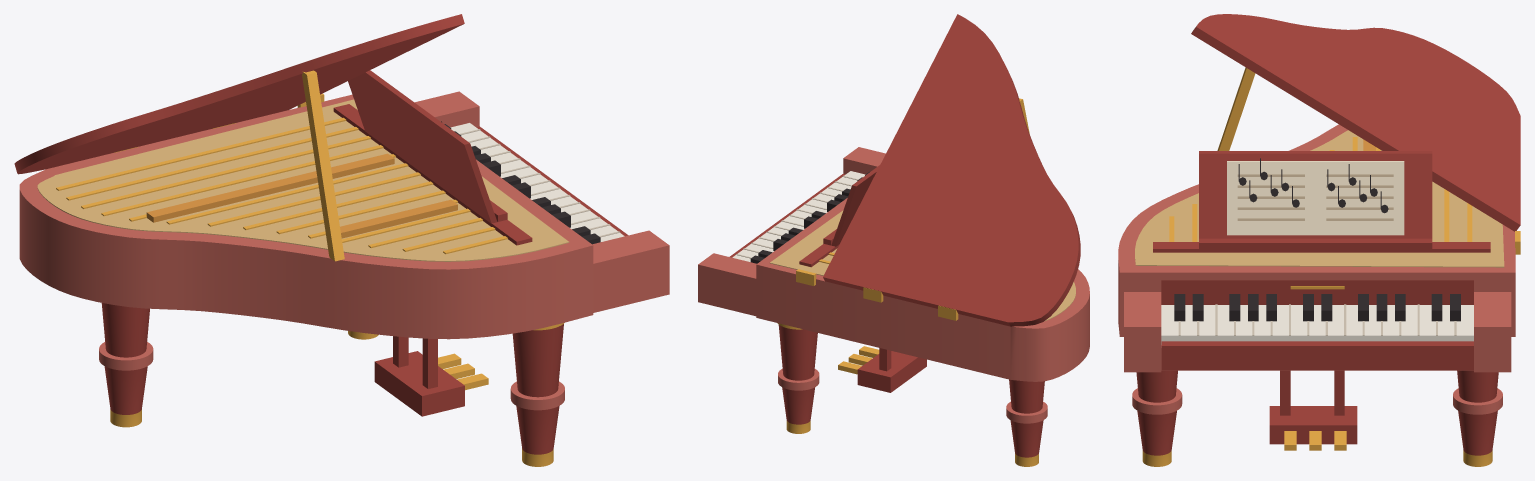
The model's file is piano.glb.
3 views of the same model, side by side, from view 1: azimuth 30°, elevation 25°; view 2: azimuth 150°, elevation 25°; view 3: azimuth 270°, elevation 25° (orthographic). The views are drawn at different scales.
Visible parts, largest first — view 1: piano; view 2: piano; view 3: piano.
Part boxes in pixels (left/top/right/bottom): piano: left=14, top=14, right=669, bottom=466; piano: left=698, top=14, right=1089, bottom=466; piano: left=1118, top=14, right=1520, bottom=466.
Size of the model in its own units: 2.34 by 2.17 by 1.93.
